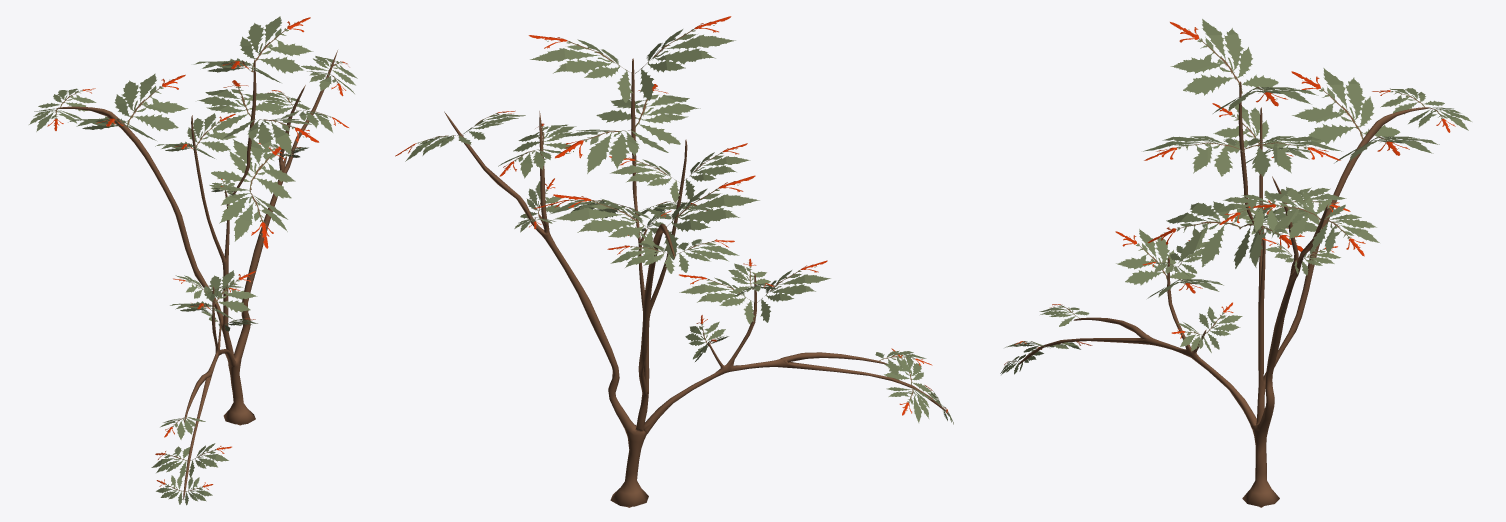
File: Uña_de_gato.fbx
3 views of the same model, side by side, from view 1: azimuth 30°, elevation 25°; view 2: azimuth 150°, elevation 25°; view 3: azimuth 270°, elevation 25° (orthographic). The views are drawn at different scales.
Visible parts, largest first — view 1: Plane.002, Plane; view 2: Plane.002, Plane; view 3: Plane.002, Plane.
Part boxes in pixels (bbox=[...]): Plane.002: bbox=[29, 16, 357, 505]; Plane: bbox=[56, 50, 337, 499]; Plane.002: bbox=[395, 16, 953, 424]; Plane: bbox=[444, 58, 945, 507]; Plane.002: bbox=[1000, 19, 1471, 374]; Plane: bbox=[1019, 81, 1429, 507].
Bounding box in the file's own units: 333 × 369 × 367.
